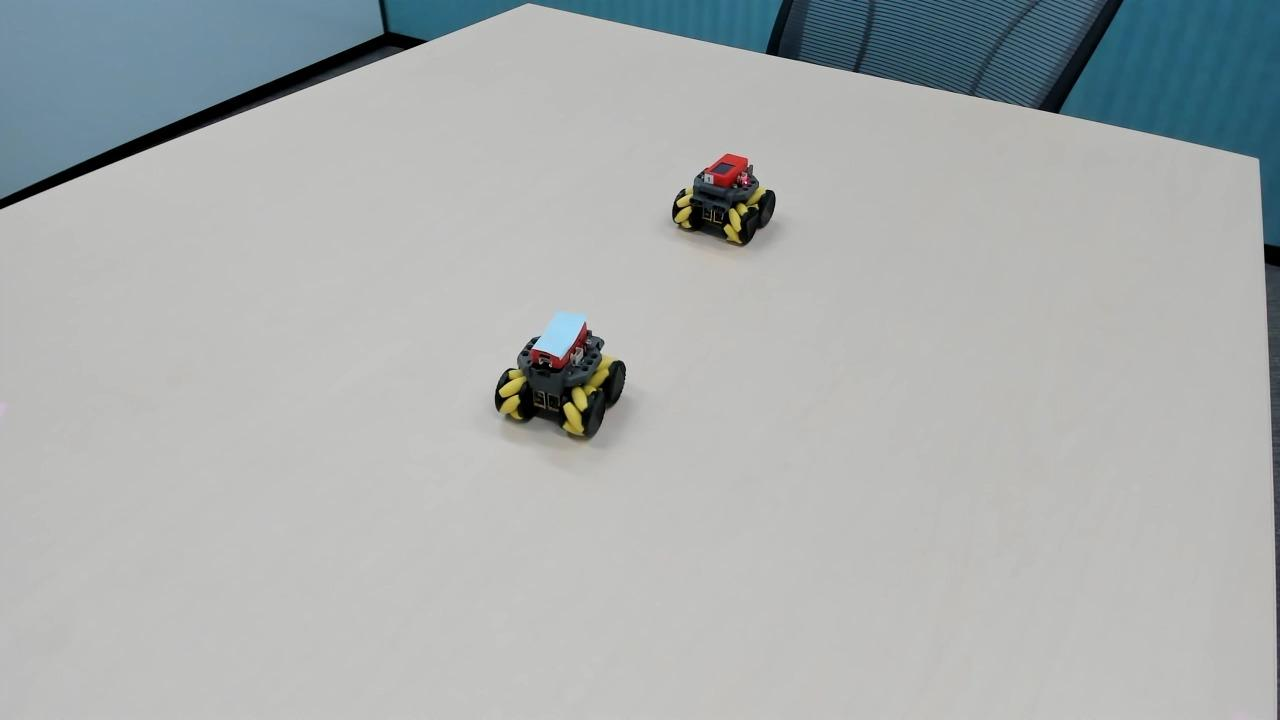B-Robot: (479, 291, 640, 456)
R-Robot: (665, 136, 794, 266)
